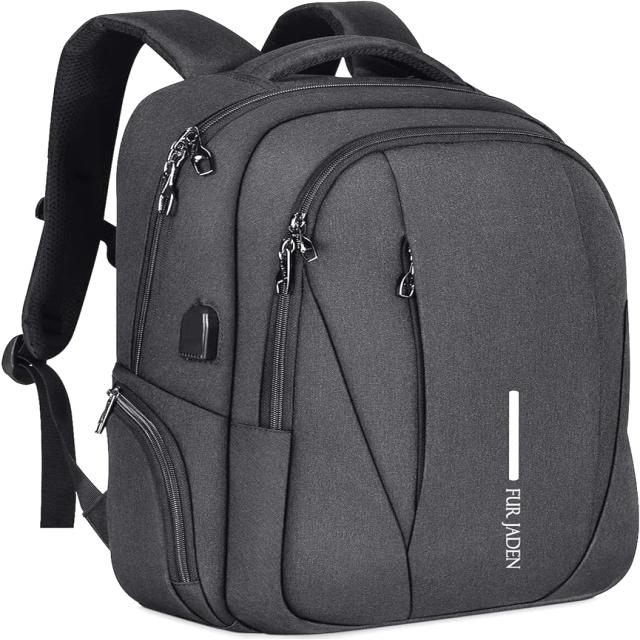backpack: (4, 2, 638, 636)
